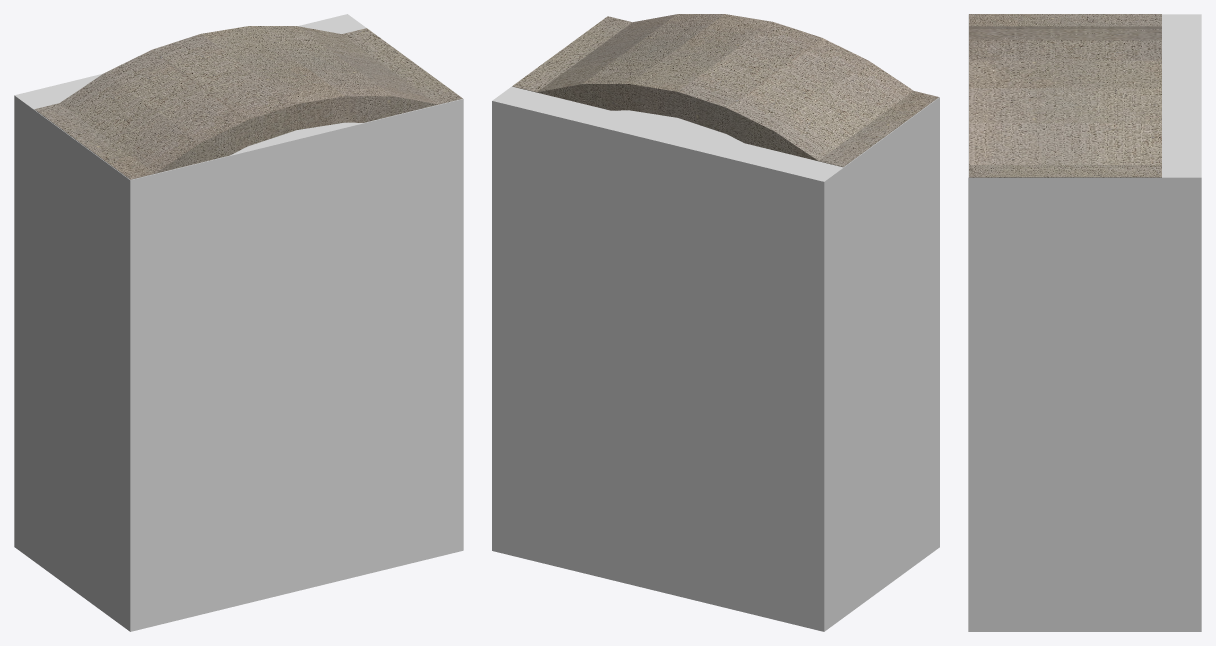
File: BLCW52SU.glb
3 views of the same model, side by side, from view 1: azimuth 30°, elevation 25°; view 2: azimuth 150°, elevation 25°; view 3: azimuth 270°, elevation 25° (orthographic).
Visible parts, largest first — view 1: _bb.007, limestone.003; view 2: _bb.007, limestone.003; view 3: _bb.007, limestone.003.
Part boxes in pixels (x1=…): _bb.007: x1=14, y1=14, x2=463, y2=631; limestone.003: x1=34, y1=26, x2=462, y2=179; _bb.007: x1=492, y1=86, x2=939, y2=631; limestone.003: x1=512, y1=14, x2=938, y2=167; _bb.007: x1=968, y1=14, x2=1201, y2=631; limestone.003: x1=969, y1=14, x2=1161, y2=177.
Bounding box in the file's own units: 0.4012 × 0.56 × 0.242.
1 material, 1 textured.
